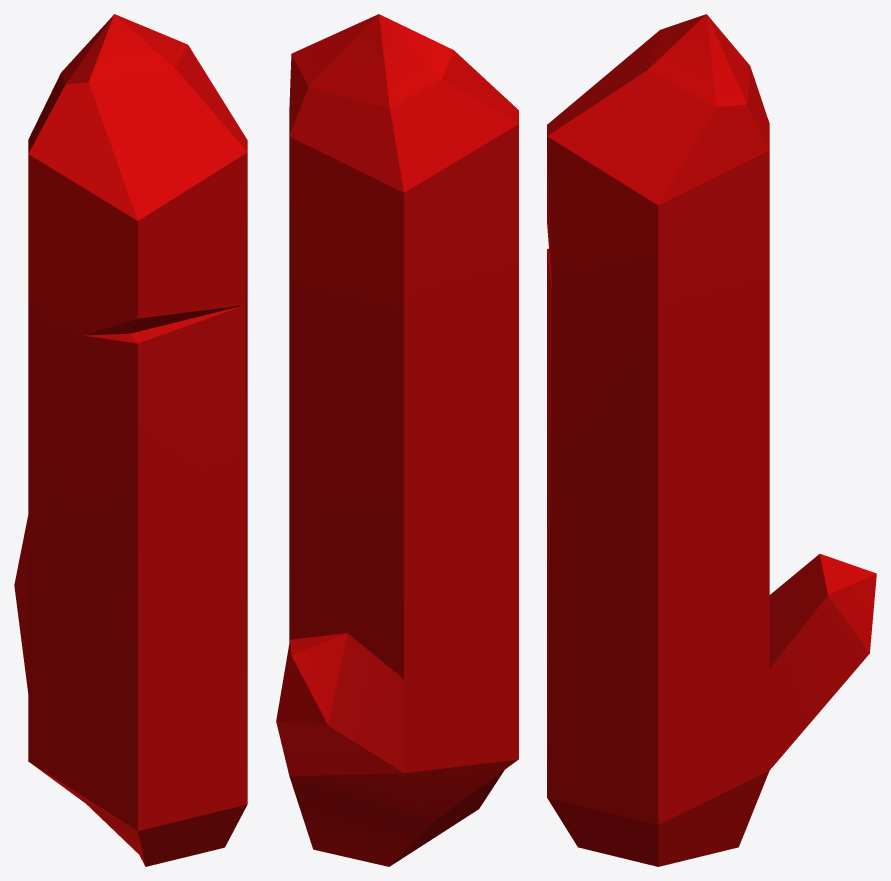
File: geology-crystals-coloredcrystal_v12.fbx
3 renders of one model, left to right at view 1: azimuth 30°, elevation 25°; view 2: azimuth 150°, elevation 25°; view 3: azimuth 270°, elevation 25°, orthographic. The views are drawn at different scales.
Visible parts, largest first — view 1: ColoredCrystal_v12; view 2: ColoredCrystal_v12; view 3: ColoredCrystal_v12.
Part boxes in pixels (x1,y1,x2,y2): ColoredCrystal_v12: [14, 14, 247, 866]; ColoredCrystal_v12: [276, 14, 518, 866]; ColoredCrystal_v12: [547, 14, 876, 866].
Size of the model in its own units: 2.12 by 7.67 by 2.72.
